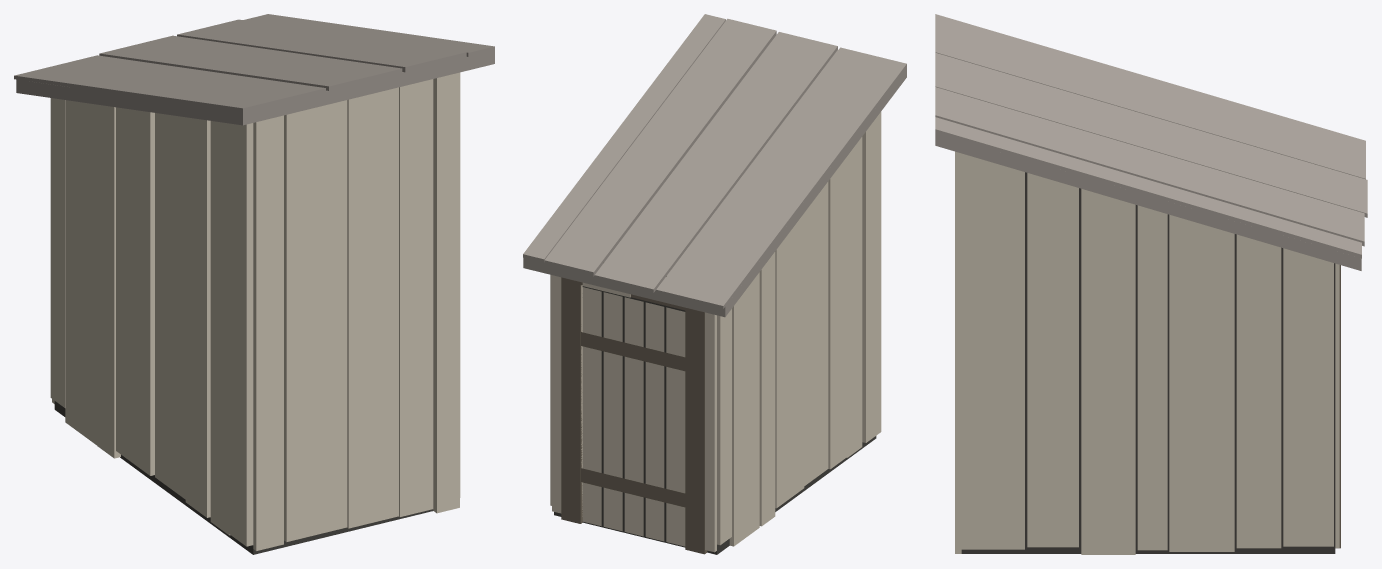
File: recon_1835_blk_south_water_lasalle_a3_07__inferred_1835.glb
3 views of the same model, side by side, from view 1: azimuth 30°, elevation 25°; view 2: azimuth 150°, elevation 25°; view 3: azimuth 270°, elevation 25° (orthographic). The views are drawn at different scales.
Parts seen in each view (by area): view 1: recon_1835_blk_south_water_lasalle_a3_07__inferred_1835; view 2: recon_1835_blk_south_water_lasalle_a3_07__inferred_1835; view 3: recon_1835_blk_south_water_lasalle_a3_07__inferred_1835.
Part boxes in pixels (x1,y1,x2,y2): recon_1835_blk_south_water_lasalle_a3_07__inferred_1835: (14, 14, 494, 554); recon_1835_blk_south_water_lasalle_a3_07__inferred_1835: (523, 14, 906, 554); recon_1835_blk_south_water_lasalle_a3_07__inferred_1835: (935, 14, 1367, 554).
Size of the model in its own units: 1.66 by 2.93 by 2.63.
